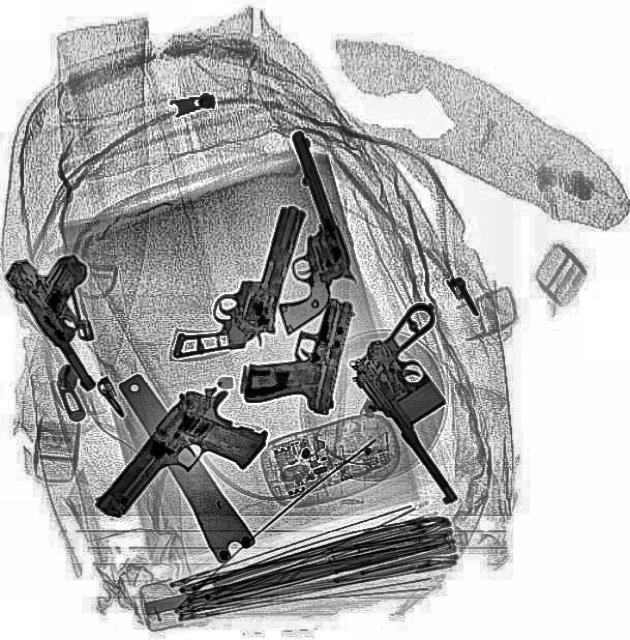Gun: (336, 300, 530, 506), (87, 370, 279, 558), (221, 128, 370, 334), (170, 185, 306, 377), (0, 238, 144, 388), (236, 280, 356, 418)
